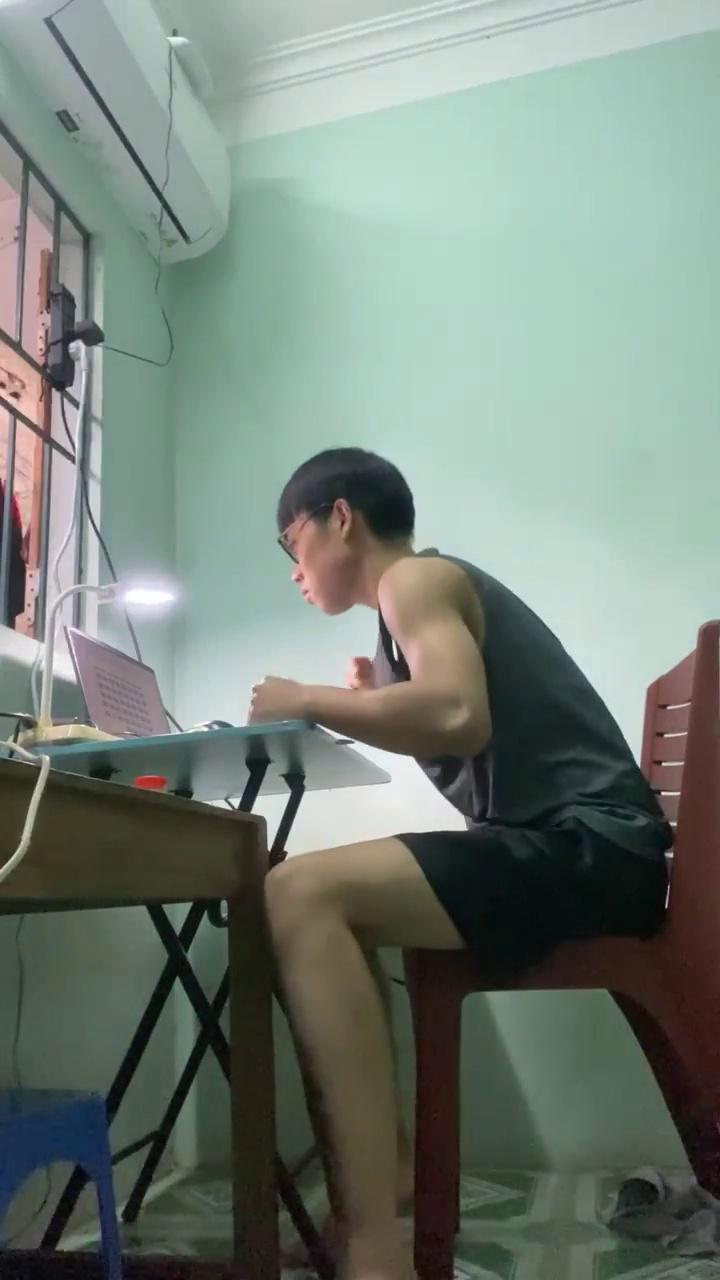BadPosture: (248, 428, 671, 1279)
